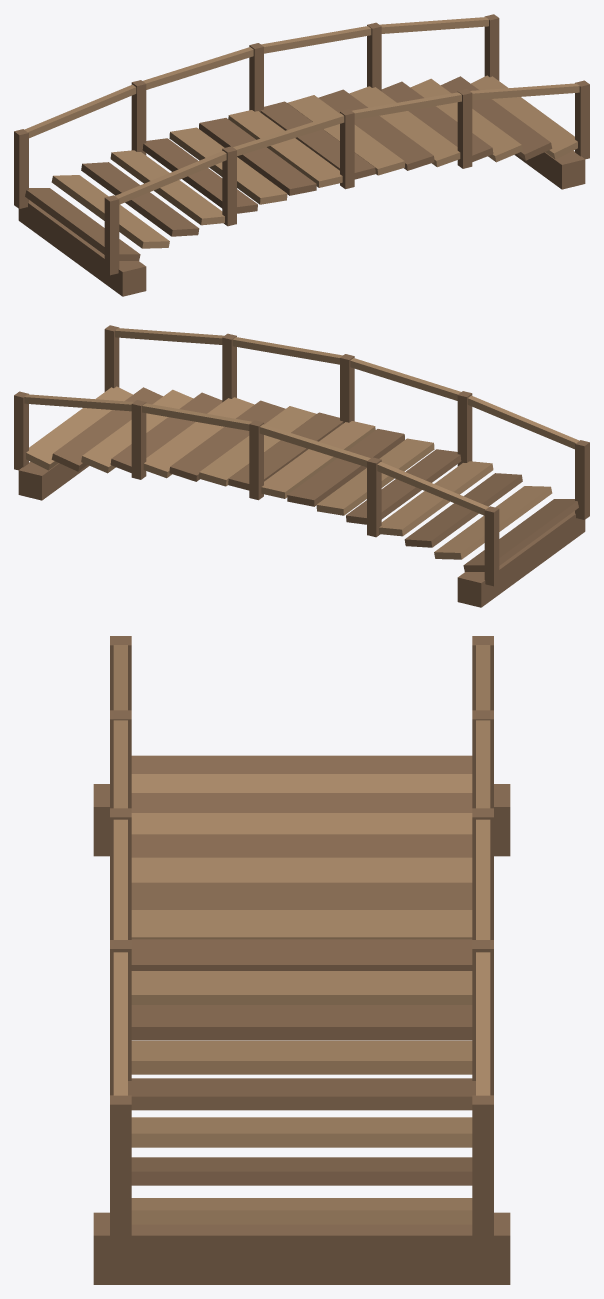
Rendered from Bridge_Wood.glb.
3 views of the same model, one above another, from view 1: azimuth 30°, elevation 25°; view 2: azimuth 150°, elevation 25°; view 3: azimuth 270°, elevation 25° (orthographic). The views are drawn at different scales.
Visible parts, largest first — view 1: Bridge_Wood; view 2: Bridge_Wood; view 3: Bridge_Wood.
Part boxes in pixels (<box>): Bridge_Wood: <box>14,14,589,296</box>; Bridge_Wood: <box>14,325,589,607</box>; Bridge_Wood: <box>93,636,510,1284</box>.
Bounding box in the file's own units: 6.12 × 1.5 × 2.3.
